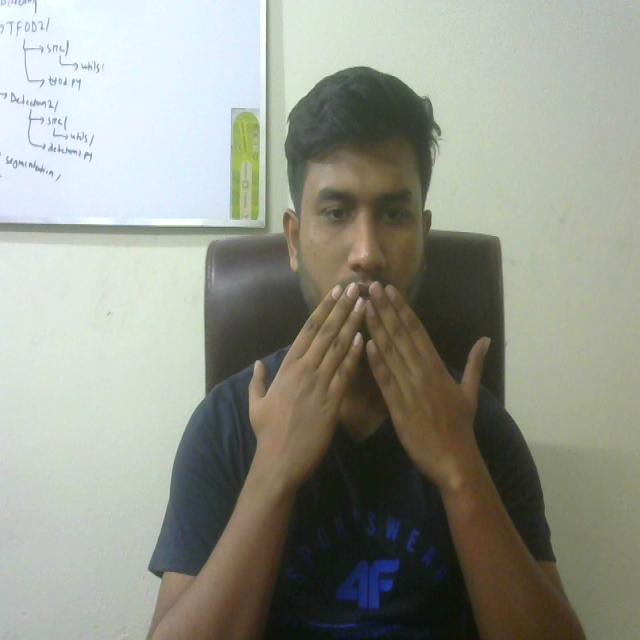Thanks: (233, 275, 501, 480)
